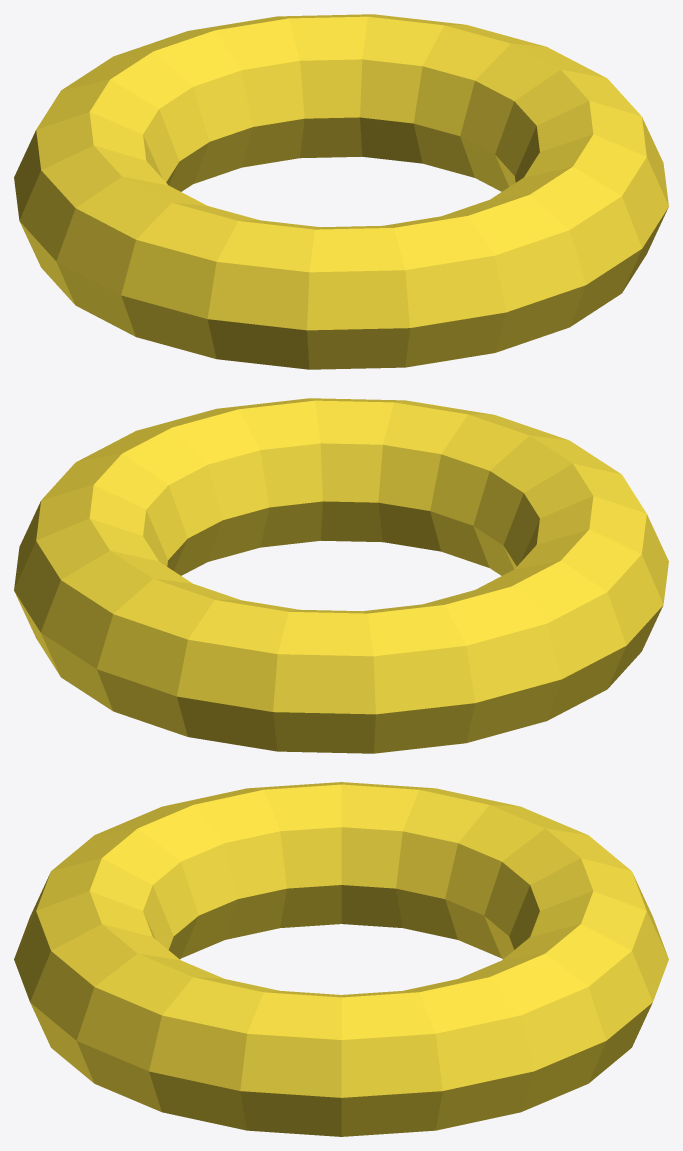
Rendered from unisex_gold_bracelet.glb.
3 views of the same model, one above another, from view 1: azimuth 30°, elevation 25°; view 2: azimuth 150°, elevation 25°; view 3: azimuth 270°, elevation 25° (orthographic).
Parts seen in each view (by area): view 1: GoldBracelet; view 2: GoldBracelet; view 3: GoldBracelet.
Part boxes in pixels (x1=…): GoldBracelet: x1=14, y1=14, x2=668, y2=369; GoldBracelet: x1=14, y1=398, x2=668, y2=753; GoldBracelet: x1=14, y1=782, x2=668, y2=1136.
Bounding box in the file's own units: 0.104 × 0.024 × 0.104.
